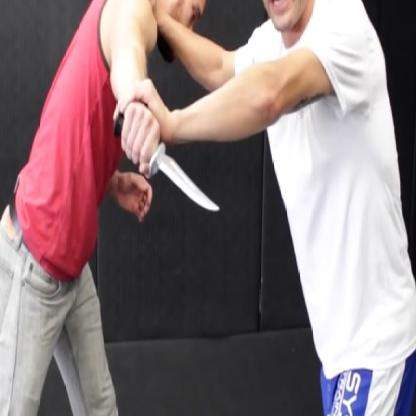knife: (103, 93, 223, 220)
